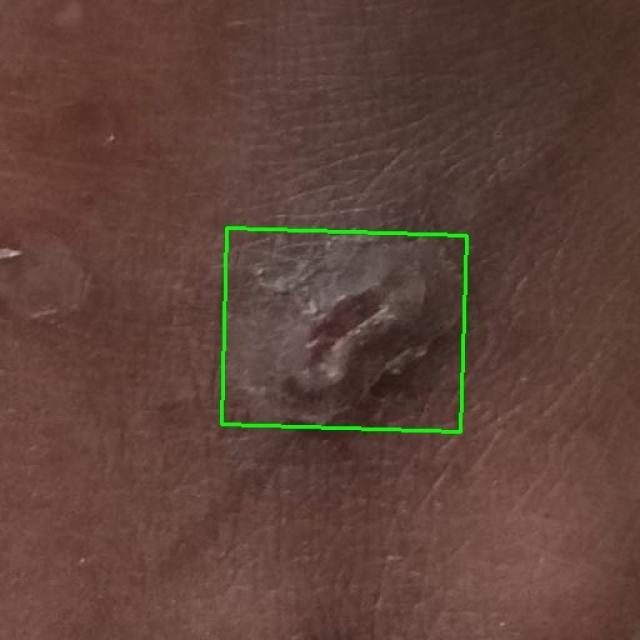Eczema: (222, 229, 467, 432)
